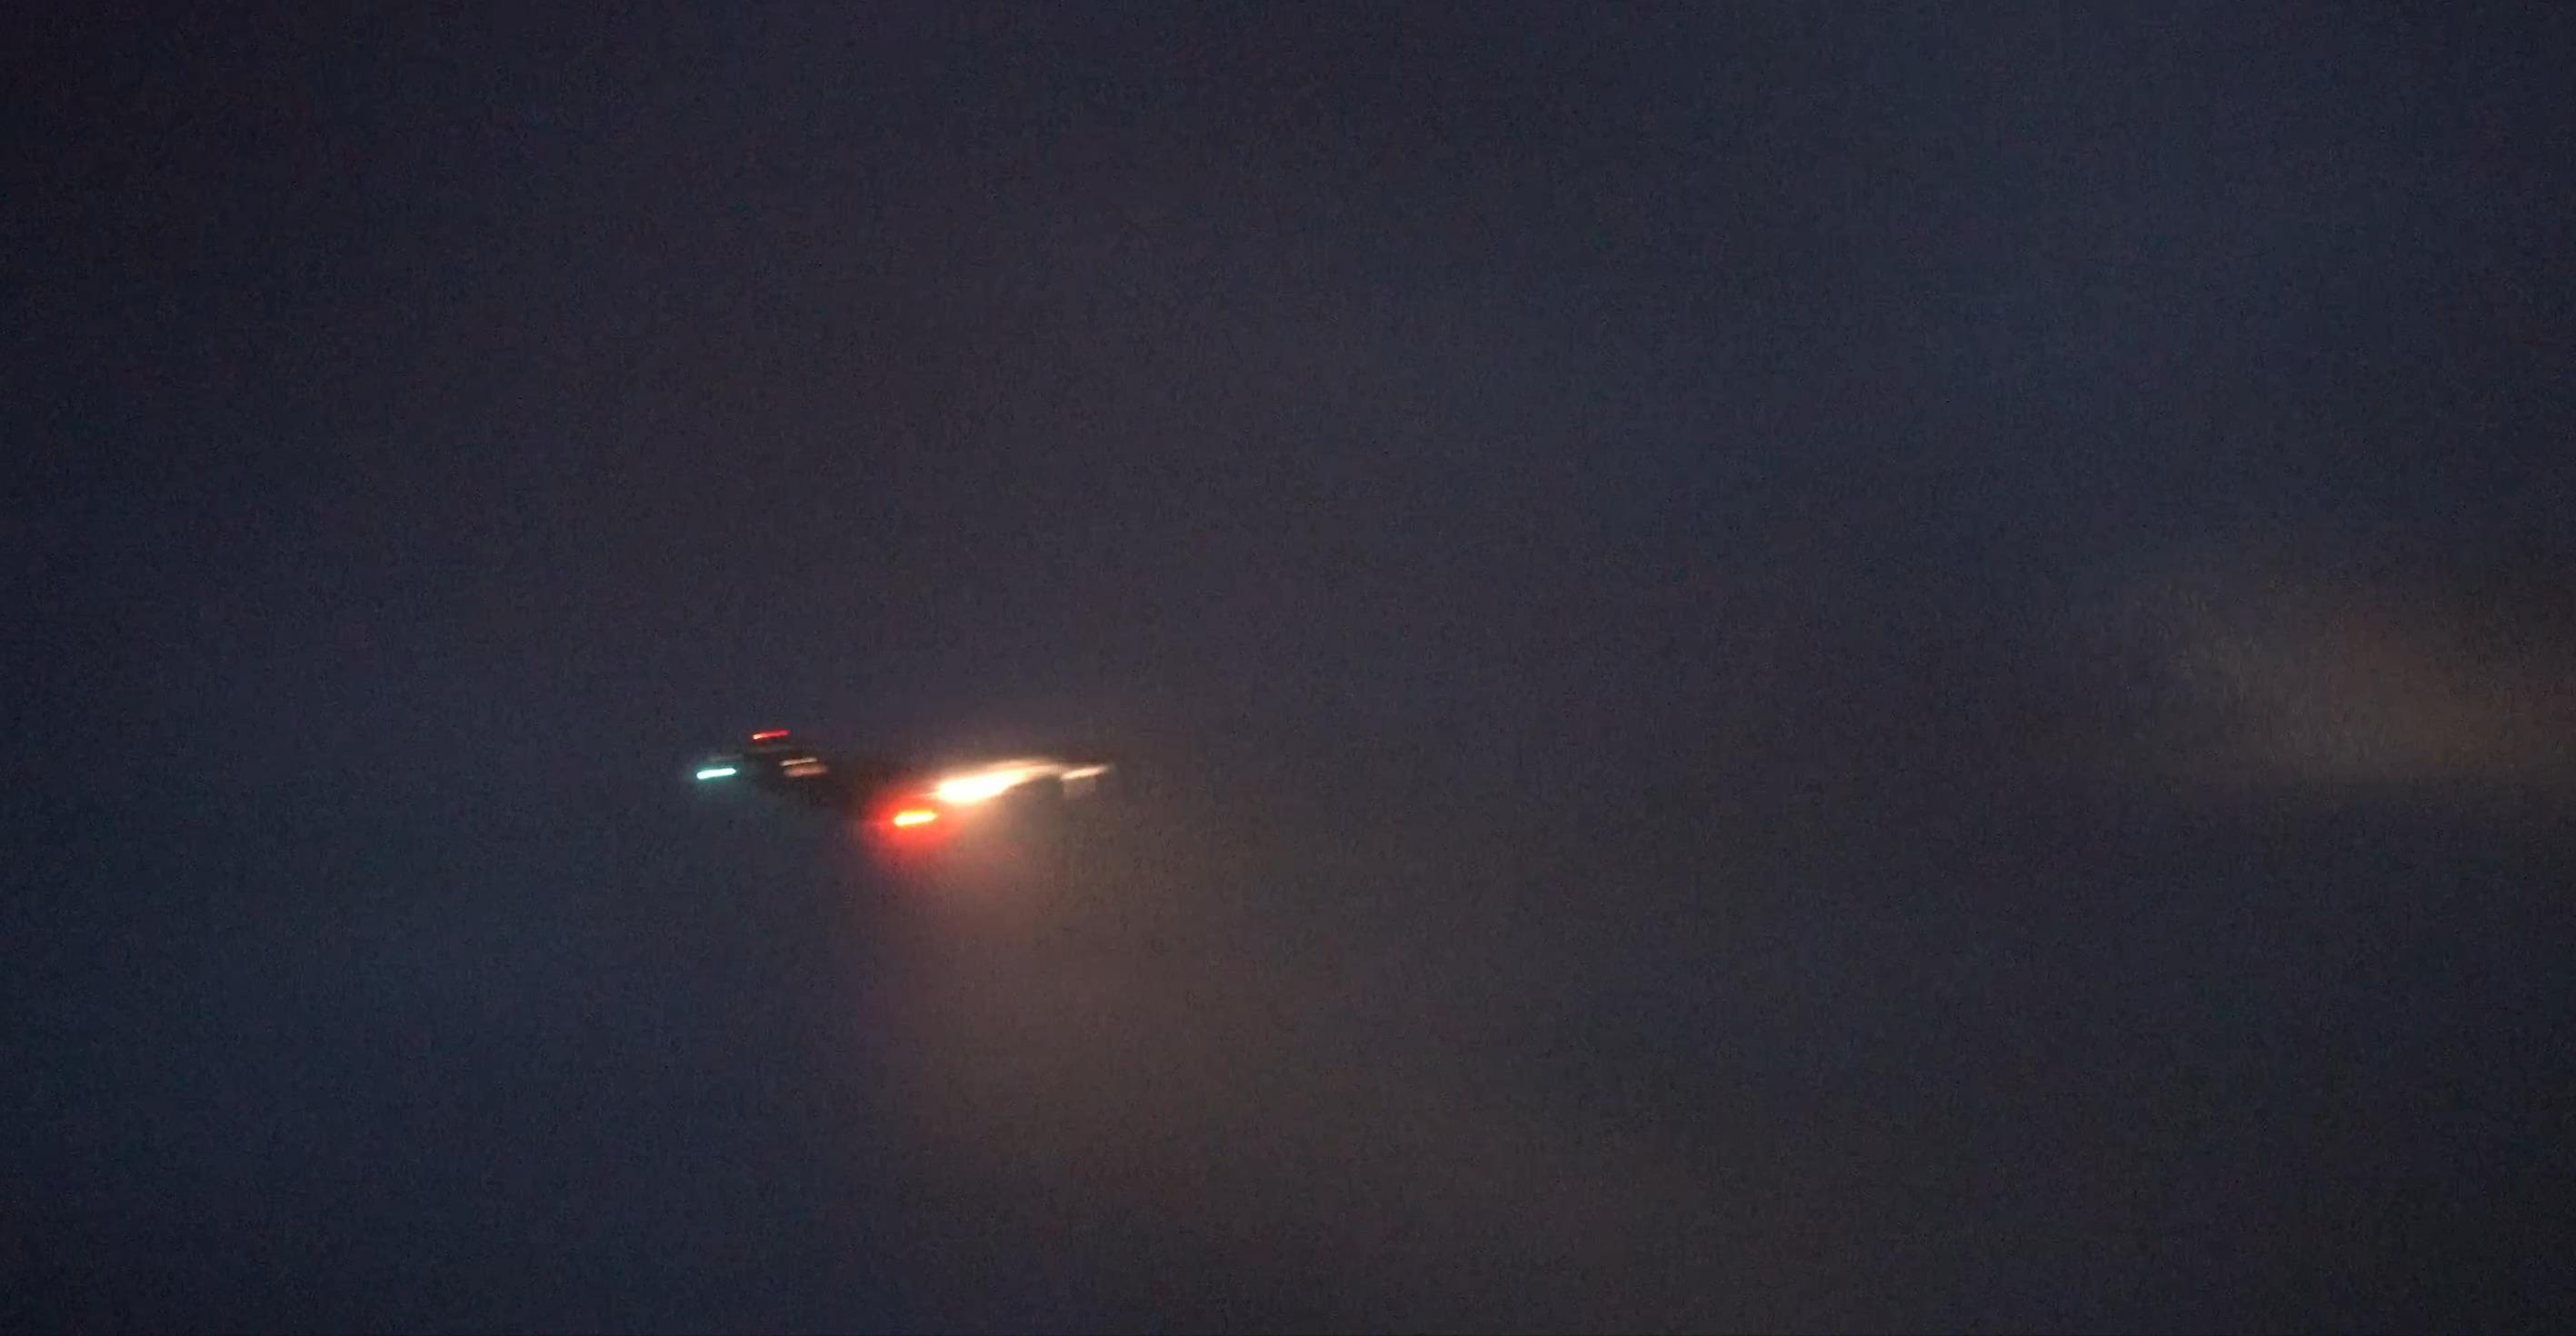Plane: (663, 702, 1179, 896)
